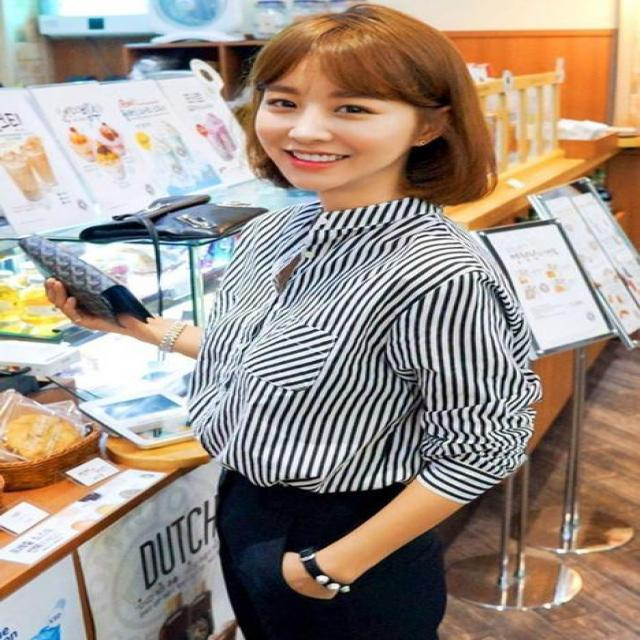long sleeve top: (189, 198, 544, 504)
trousers: (217, 464, 448, 639)
